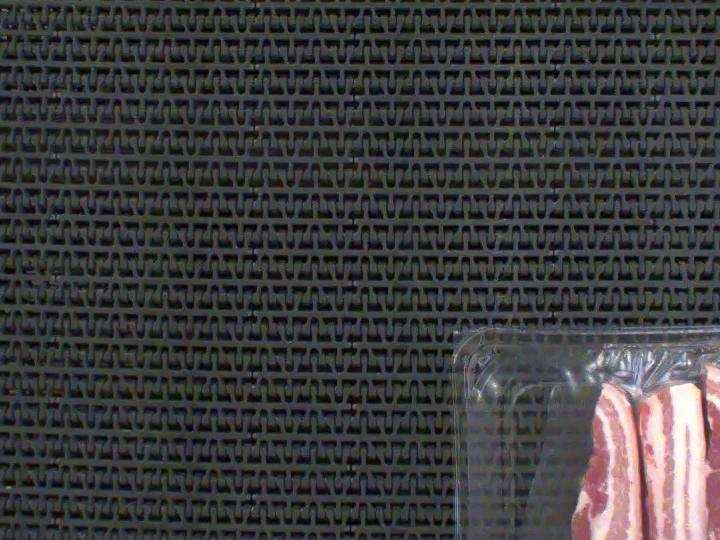unsealed: (523, 338, 720, 540)
